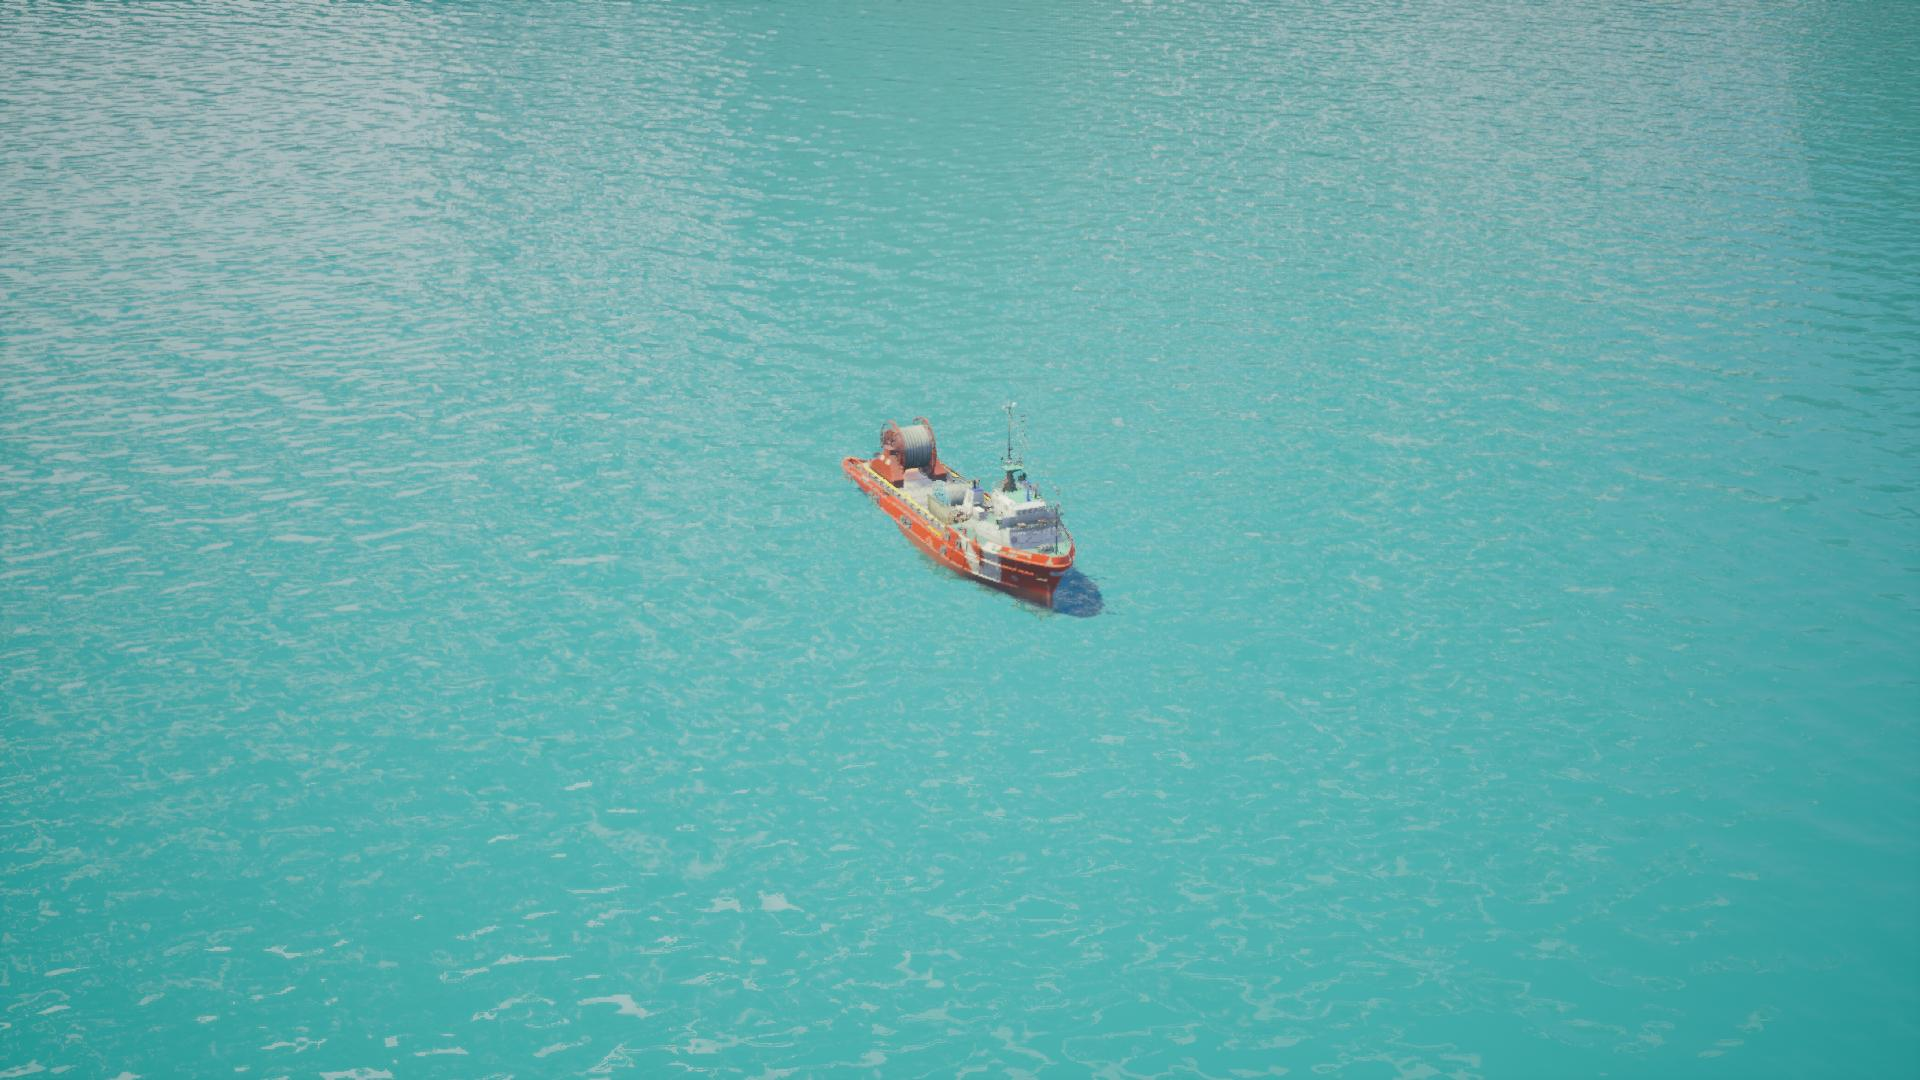Tug Boat: (836, 427, 1085, 620)
